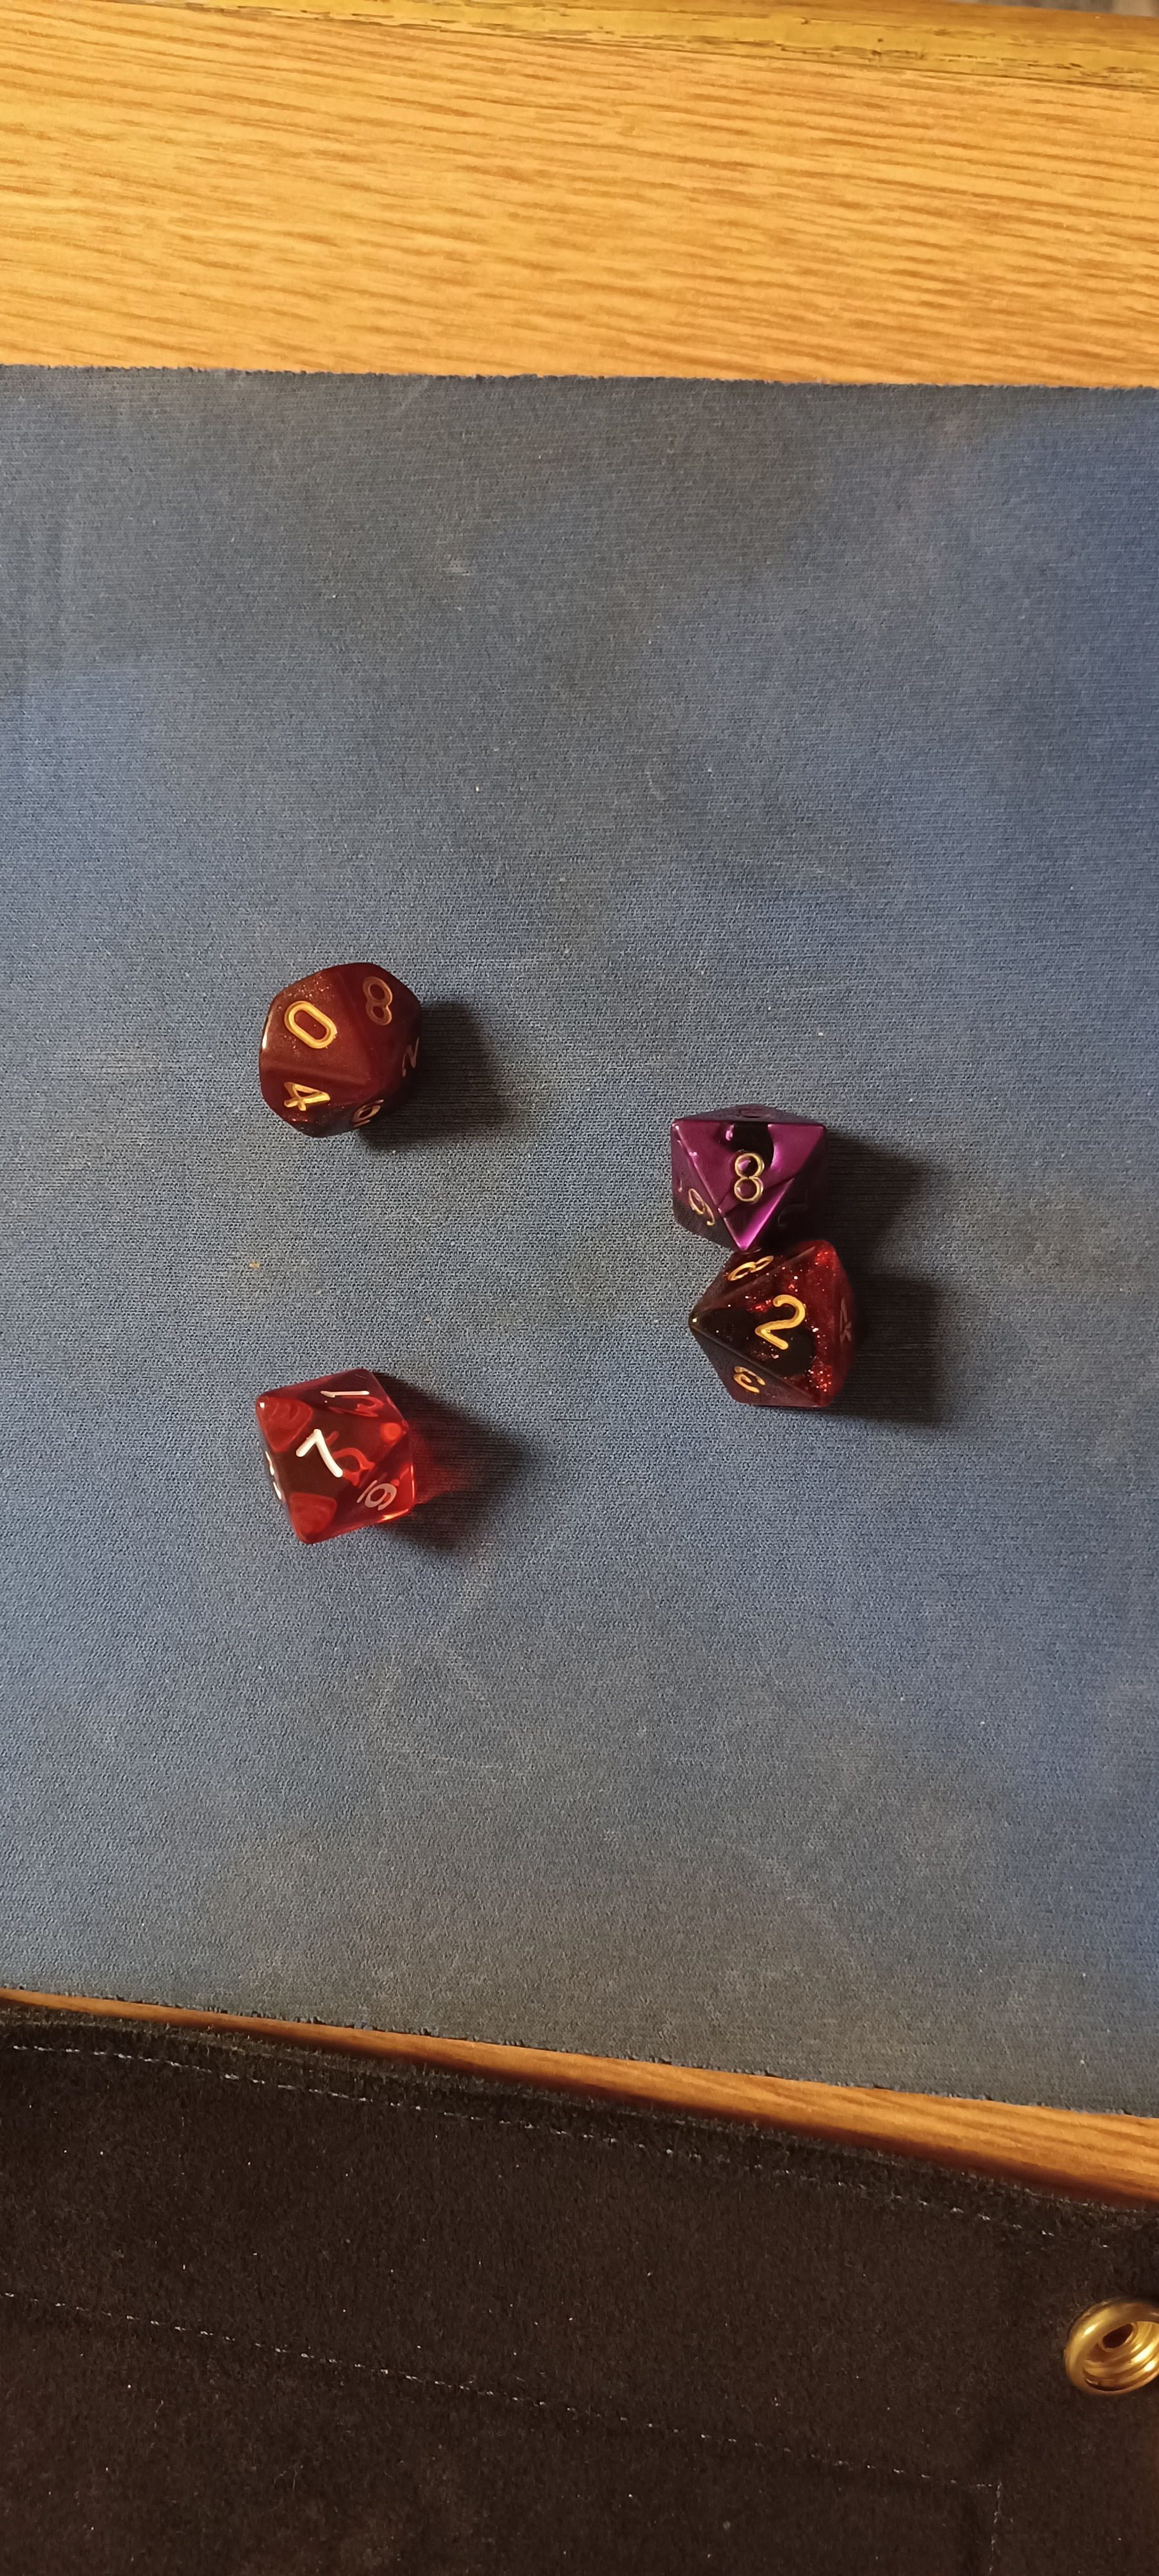eight: (228, 1344, 470, 1567), (645, 1083, 839, 1265)
two: (650, 1217, 903, 1436)
zero: (230, 938, 451, 1148)
